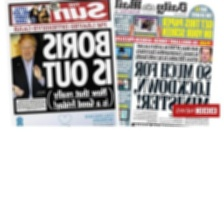news_paper: (4, 0, 119, 128), (101, 1, 217, 126)
